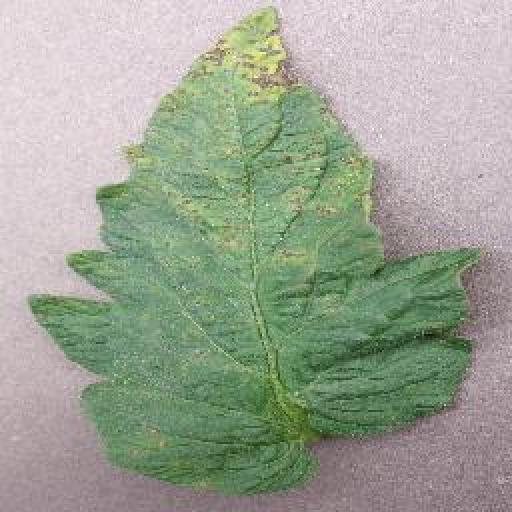Septoria: (24, 4, 480, 492)
